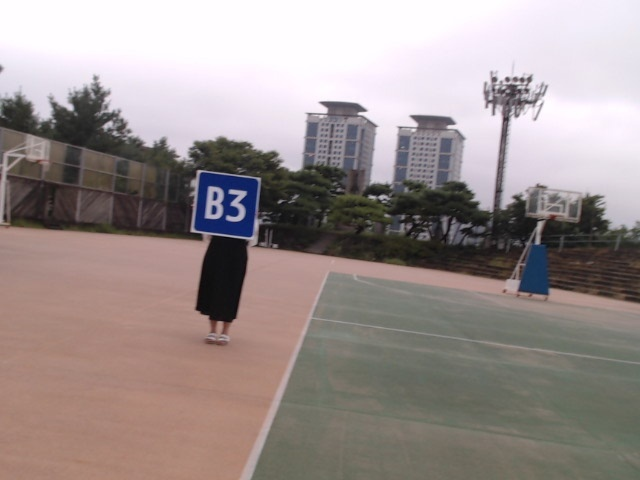delivery_b3: (193, 171, 259, 239)
